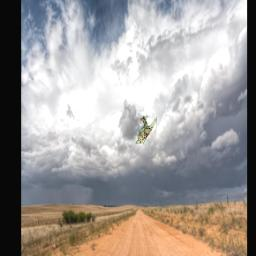Sparrow: (136, 117, 158, 145)
